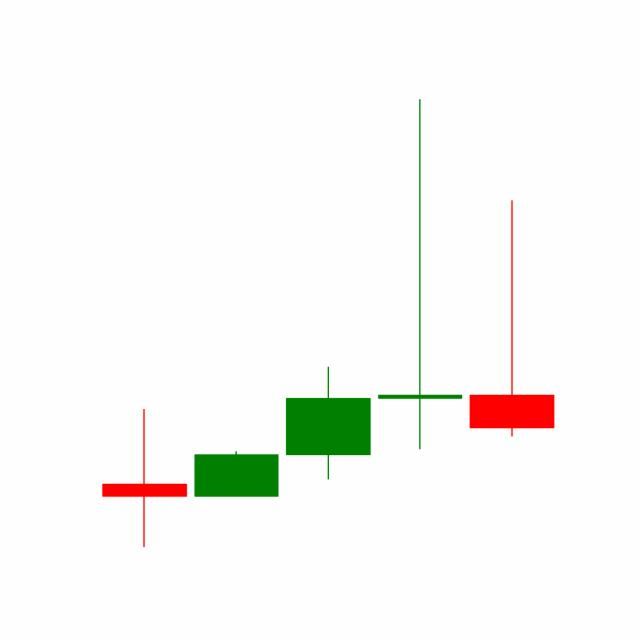Spinning Top: (373, 95, 467, 452)
